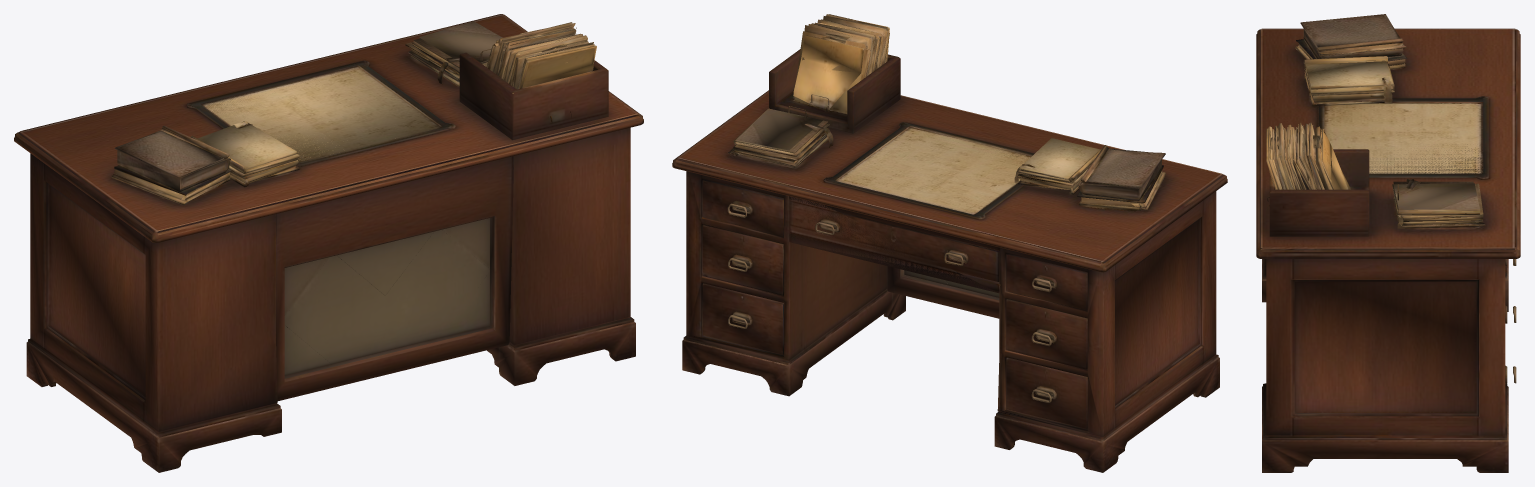
Rendered from furniture-writing-desk.glb.
The picture shows the model from 3 angles, left to right: view 1: azimuth 30°, elevation 25°; view 2: azimuth 150°, elevation 25°; view 3: azimuth 270°, elevation 25°; orthographic projection. The views are drawn at different scales.
Visible parts, largest first — view 1: tripo_node_f6cd1ad5-e30e-4b6a-9f87-fdc6d8d455e3; view 2: tripo_node_f6cd1ad5-e30e-4b6a-9f87-fdc6d8d455e3; view 3: tripo_node_f6cd1ad5-e30e-4b6a-9f87-fdc6d8d455e3.
Part boxes in pixels (bbox=[...]): tripo_node_f6cd1ad5-e30e-4b6a-9f87-fdc6d8d455e3: bbox=[14, 14, 643, 472]; tripo_node_f6cd1ad5-e30e-4b6a-9f87-fdc6d8d455e3: bbox=[672, 14, 1227, 472]; tripo_node_f6cd1ad5-e30e-4b6a-9f87-fdc6d8d455e3: bbox=[1256, 14, 1520, 472].
Size of the model in its own units: 1.3 by 0.82 by 0.65.
Materials: 1 (1 with a texture image).
